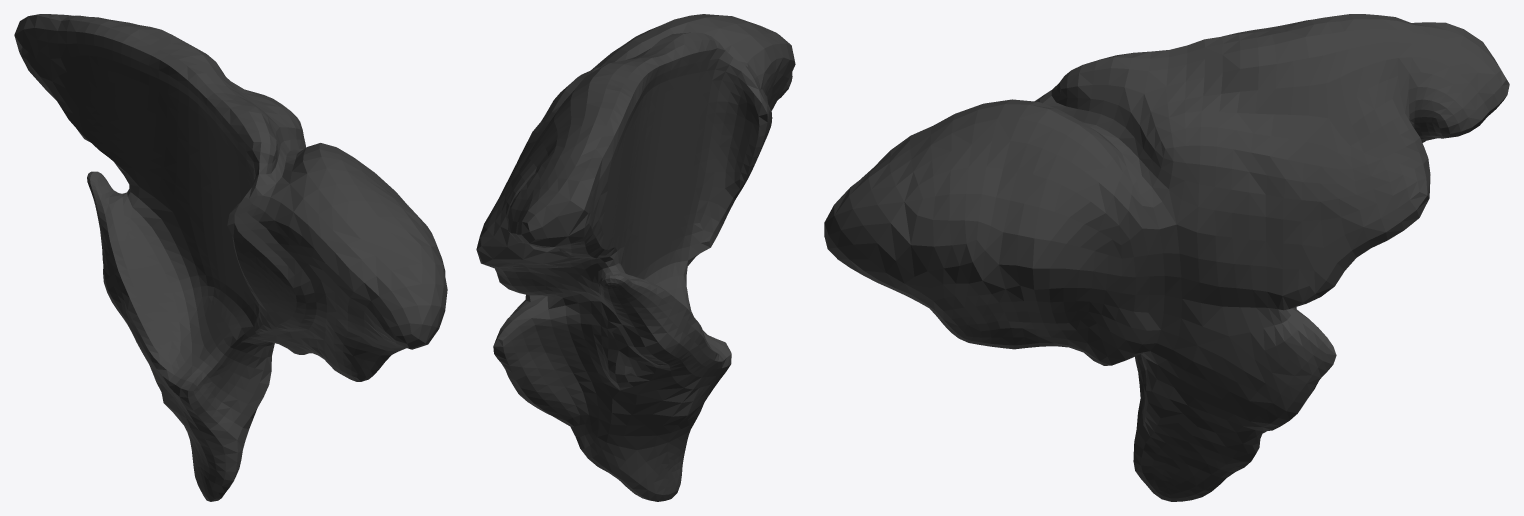
File: Frontal_sinus_L_lateral.glb
The picture shows the model from 3 angles, left to right: view 1: azimuth 30°, elevation 25°; view 2: azimuth 150°, elevation 25°; view 3: azimuth 270°, elevation 25°; orthographic projection. The views are drawn at different scales.
Parts seen in each view (by area): view 1: Frontal_sinus_L_lateral; view 2: Frontal_sinus_L_lateral; view 3: Frontal_sinus_L_lateral.
Boxes of the visible parts, x1=… form: Frontal_sinus_L_lateral: x1=14, y1=14, x2=447, y2=501; Frontal_sinus_L_lateral: x1=476, y1=14, x2=795, y2=501; Frontal_sinus_L_lateral: x1=824, y1=14, x2=1509, y2=501.
Size of the model in its own units: 86.9 by 174 by 230.
Materials: 1 (1 with a texture image).
